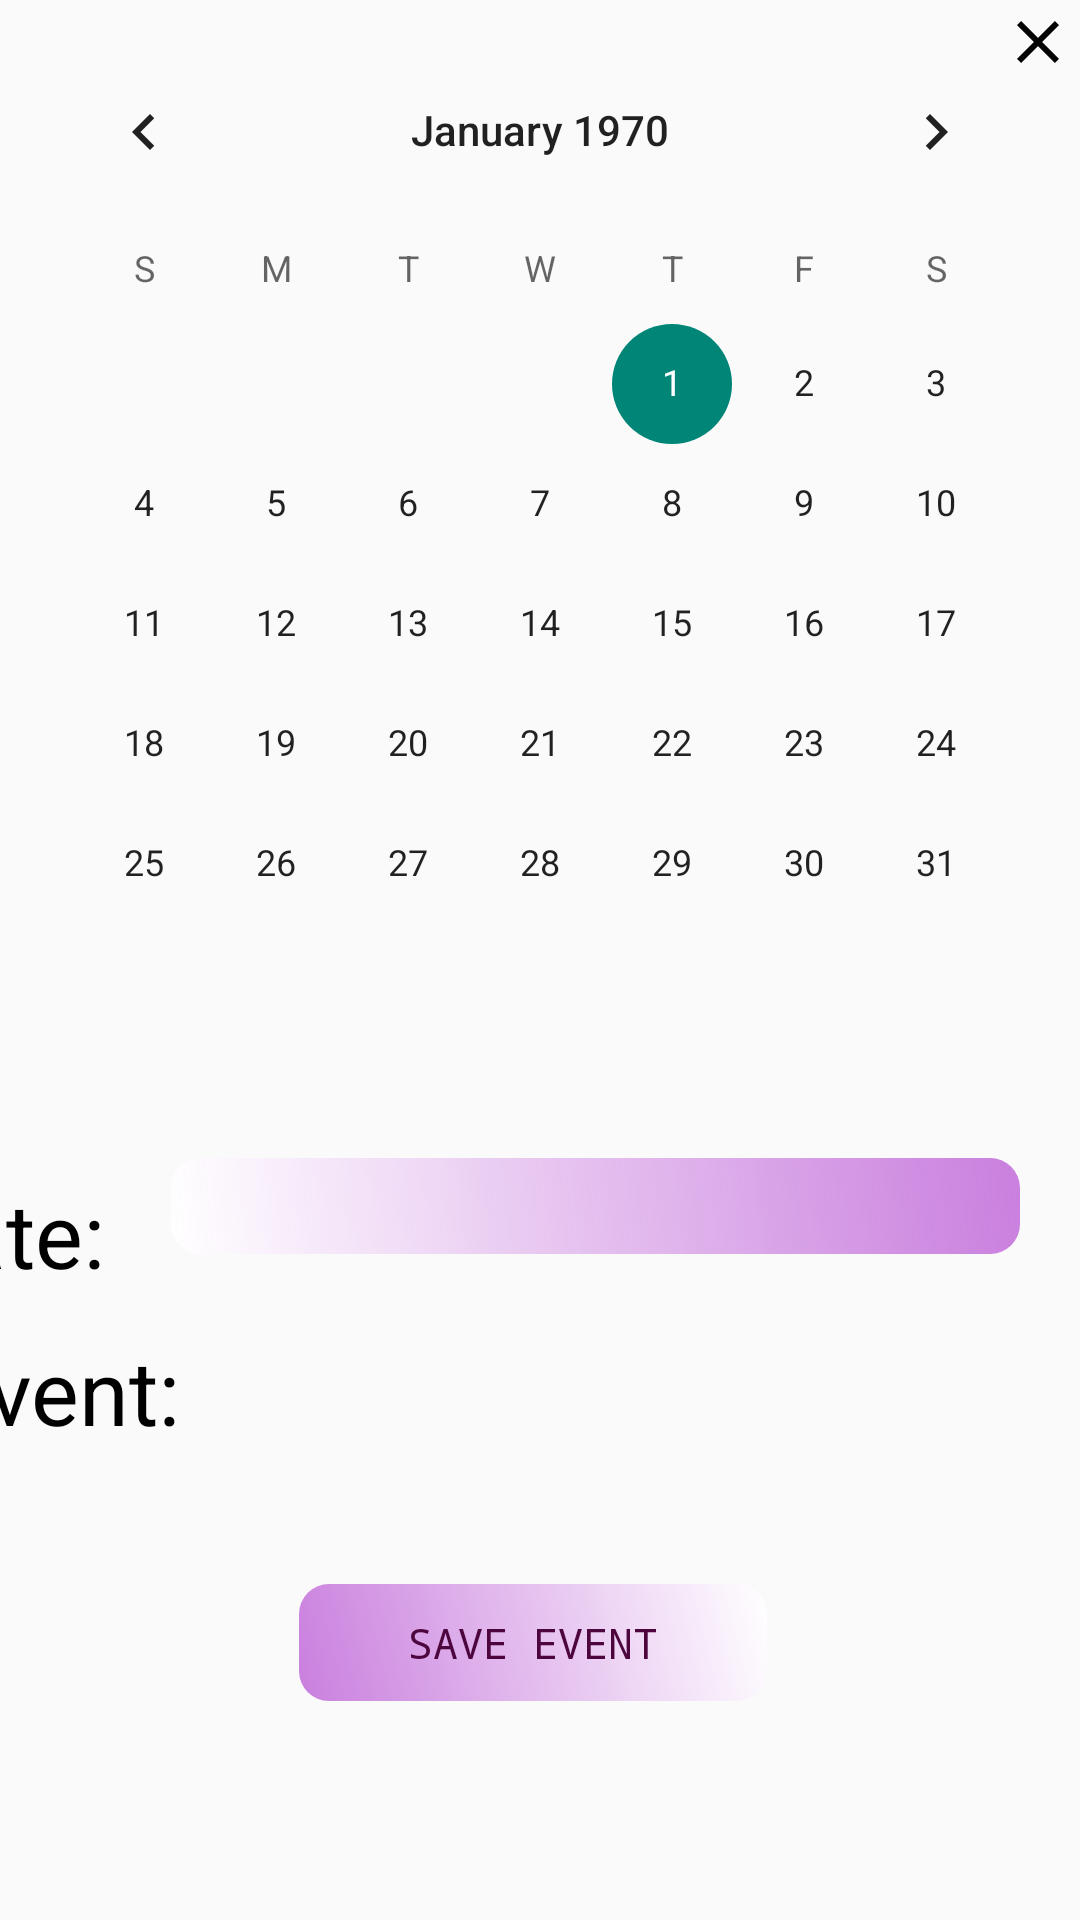

Screen size 1080px×1920px. Icon name, then its center in pixels as (x=x, y=y):
close: (x=1038, y=42)
